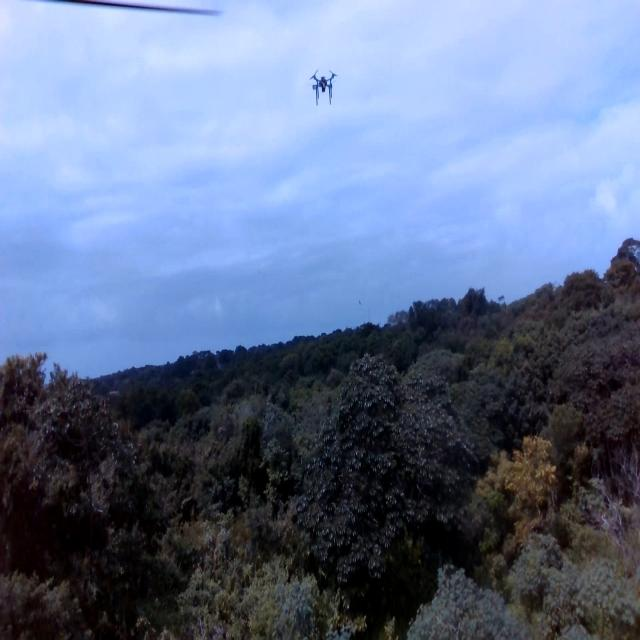-uav-: (305, 56, 345, 120)
